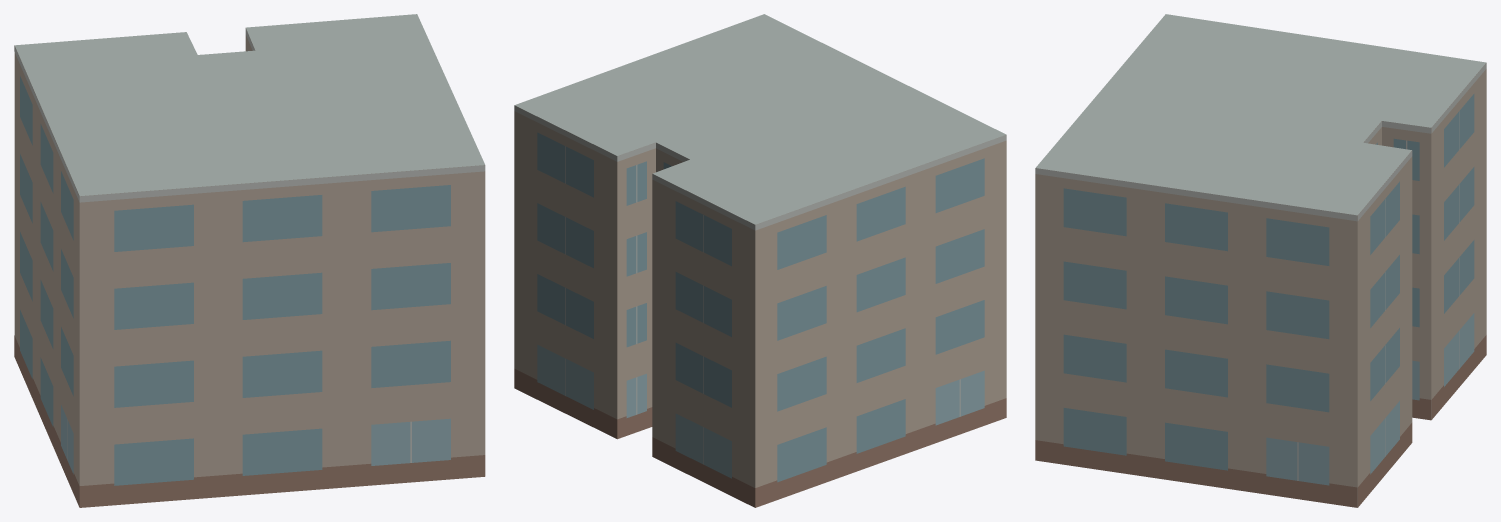
The model's file is survey-upis-32886793.glb.
3 views of the same model, side by side, from view 1: azimuth 30°, elevation 25°; view 2: azimuth 150°, elevation 25°; view 3: azimuth 270°, elevation 25° (orthographic). The views are drawn at different scales.
Parts seen in each view (by area): view 1: survey-upis-32886793.tmp; view 2: survey-upis-32886793.tmp; view 3: survey-upis-32886793.tmp.
Part boxes in pixels (box(x1,y1,x2,y2)): survey-upis-32886793.tmp: box(14, 14, 485, 507); survey-upis-32886793.tmp: box(514, 14, 1006, 507); survey-upis-32886793.tmp: box(1035, 14, 1486, 507).
Bounding box in the file's own units: 17.58 × 11.9 × 16.64.
